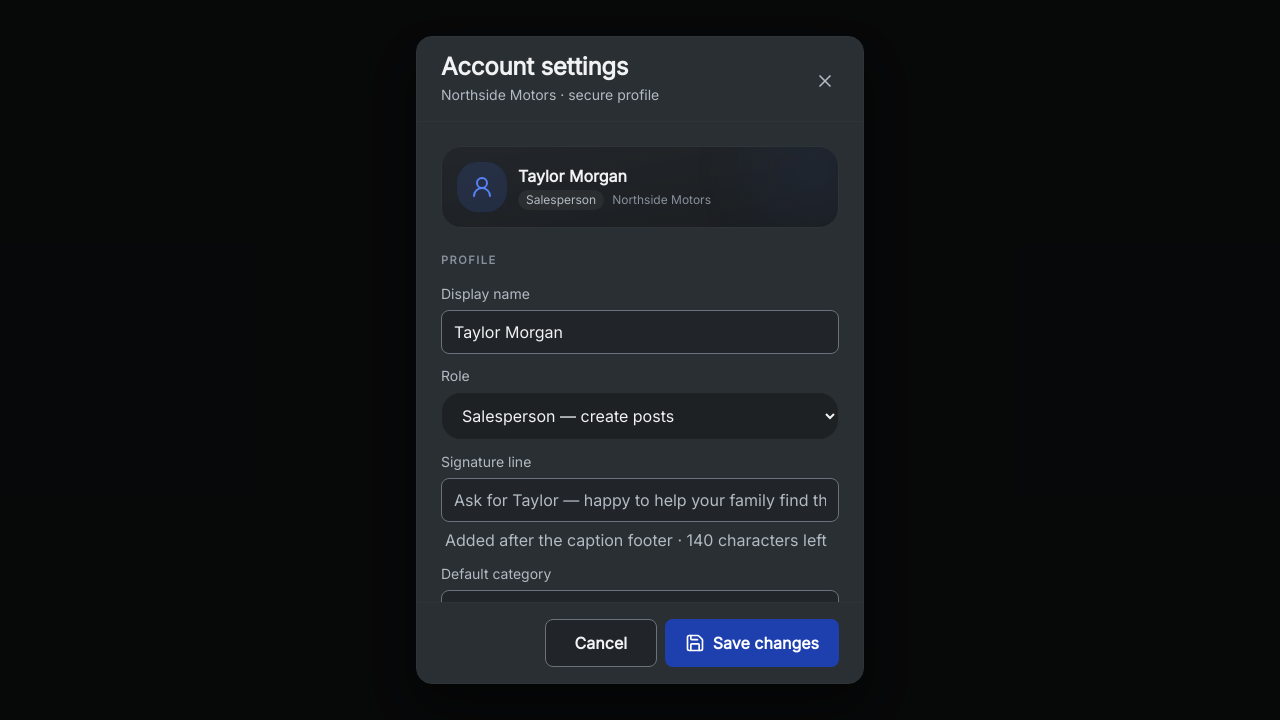
Test case: super-admin manager username and password controls › requires the manager role to be committed before exposing credential setup
Select "Manager — store dashboard & team" in the dropdown labelled "Role" at {"x": 640, "y": 416}, box 441,392 -> 839,440
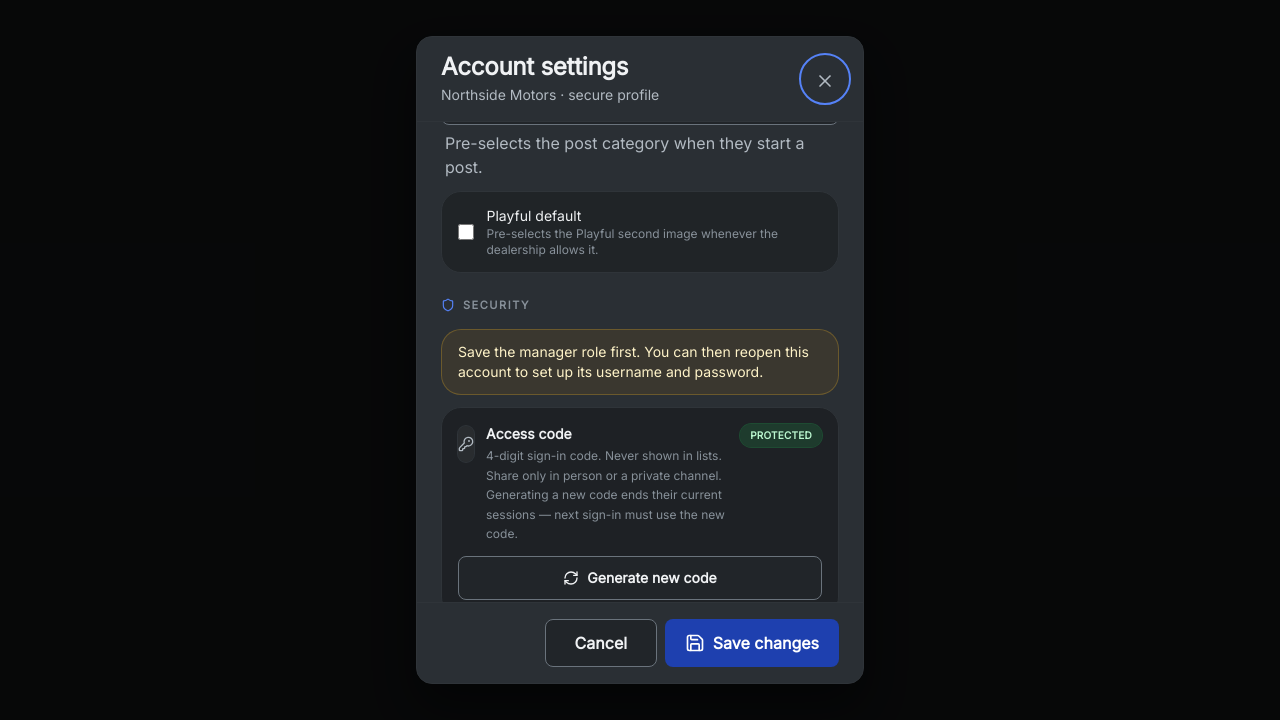
Check: the text "Save the manager role first" is shown, box 458,343 -> 809,380
